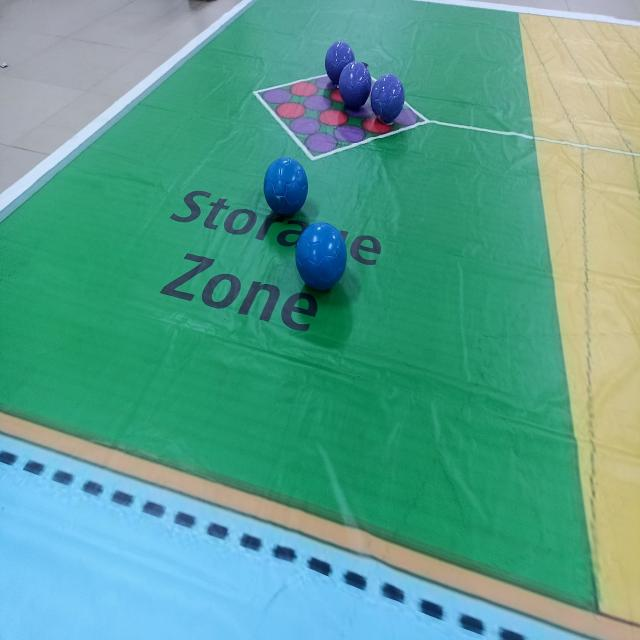blue_ball: (297, 223, 346, 287), (265, 158, 308, 214)
purple_ball: (372, 75, 406, 121), (340, 63, 371, 109), (326, 40, 354, 78)
